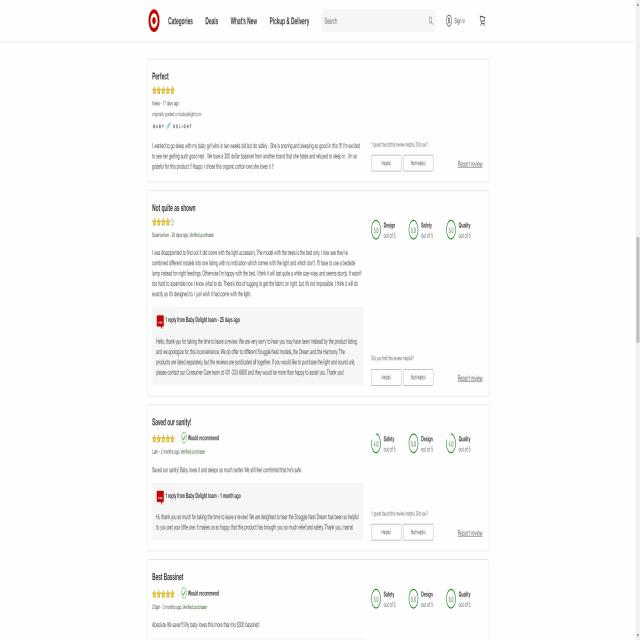menu-bar: (442, 8, 491, 33)
search: (319, 5, 437, 36)
tab-bar: (146, 6, 312, 34)
